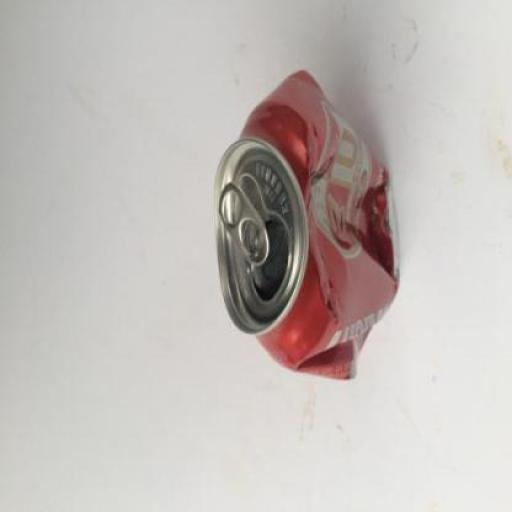metal: (215, 71, 400, 383)
